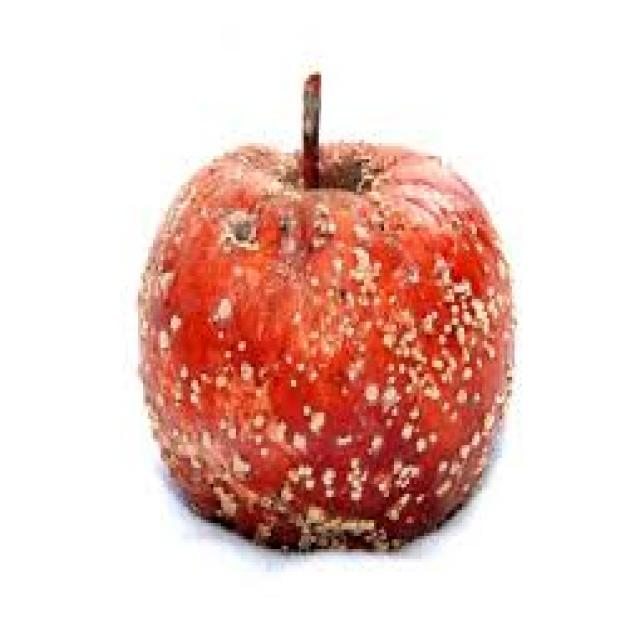organic waste: (136, 68, 514, 549)
